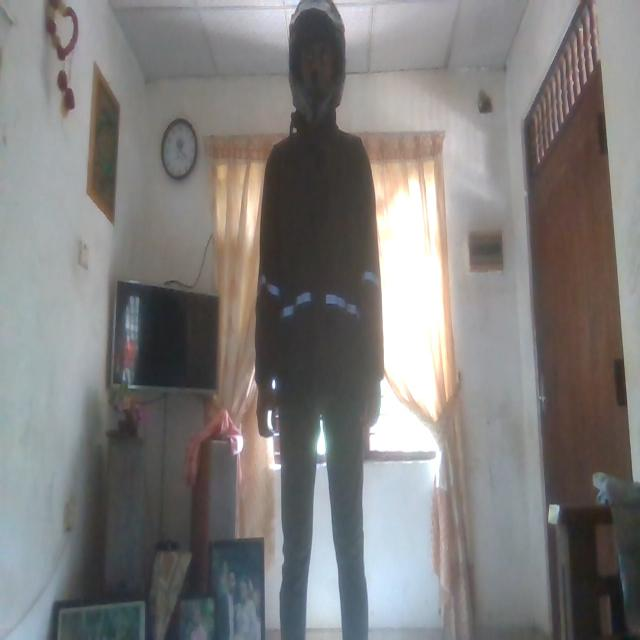Helmet_Wearer: (280, 0, 350, 124)
Jacket_Wearer: (247, 121, 389, 447)
Person: (256, 4, 382, 636)
